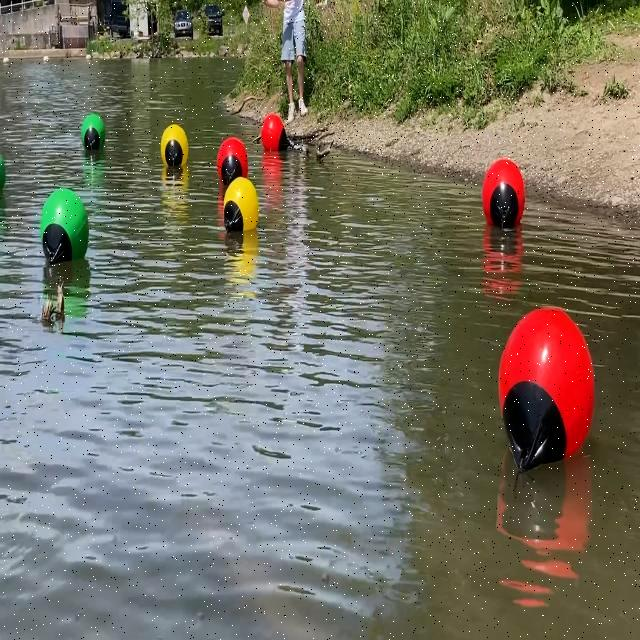buoy: (498, 306, 596, 474), (40, 184, 91, 268), (481, 158, 524, 234), (222, 177, 257, 231), (216, 136, 248, 190), (161, 123, 189, 172), (260, 112, 290, 151), (79, 111, 105, 152), (0, 152, 7, 196)
